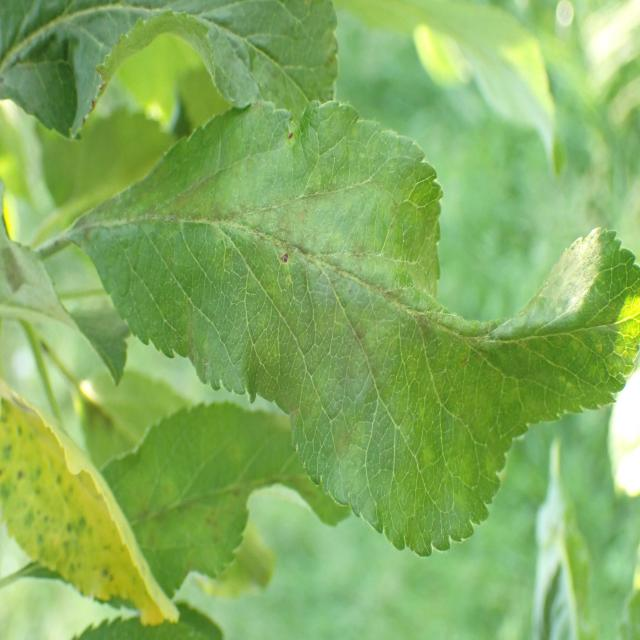scab: (69, 154, 628, 458)
